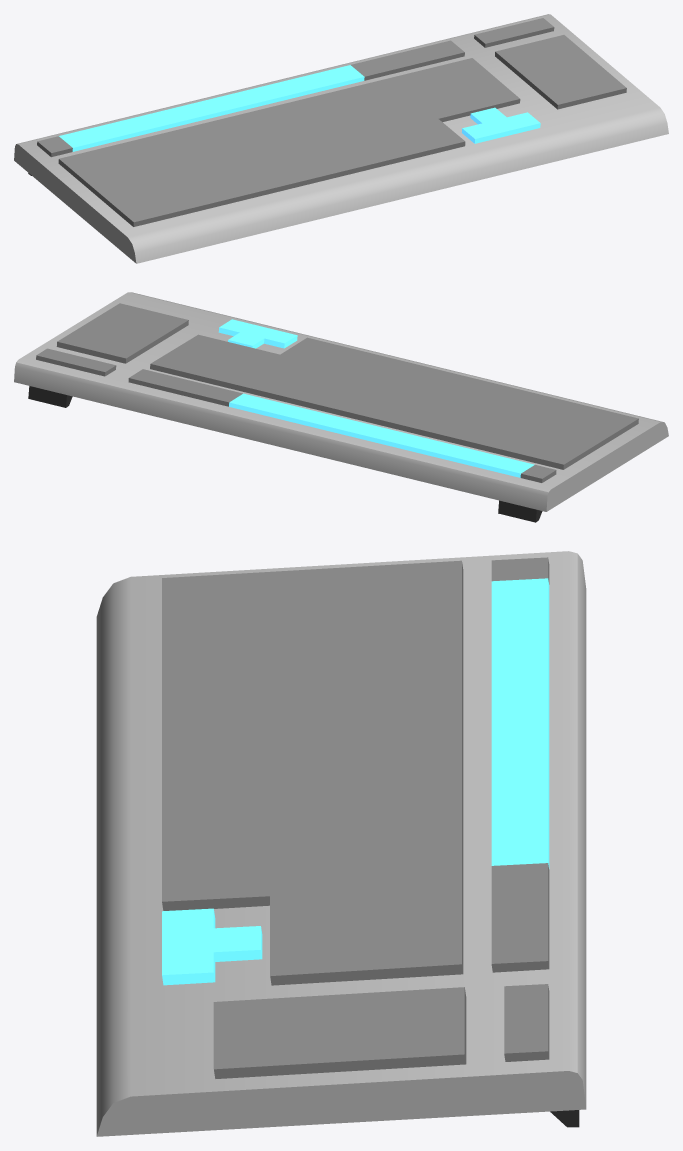
File: keyboard_3.glb
3 views of the same model, one above another, from view 1: azimuth 30°, elevation 25°; view 2: azimuth 150°, elevation 25°; view 3: azimuth 270°, elevation 25° (orthographic). The views are drawn at different scales.
Visible parts, largest first — view 1: PC Keyboard 3; view 2: PC Keyboard 3; view 3: PC Keyboard 3.
Part boxes in pixels (x1=…): PC Keyboard 3: x1=14, y1=14, x2=668, y2=263; PC Keyboard 3: x1=14, y1=292, x2=668, y2=522; PC Keyboard 3: x1=96, y1=551, x2=586, y2=1136.
Bounding box in the file's own units: 0.4489 × 0.0305 × 0.1788.
2 materials, 1 textured.
